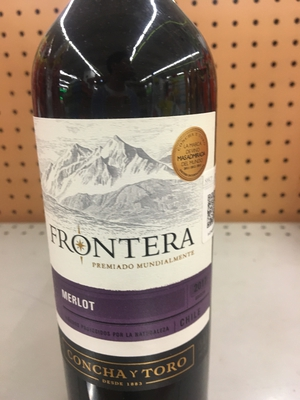frontera merlot: (29, 16, 235, 399)
